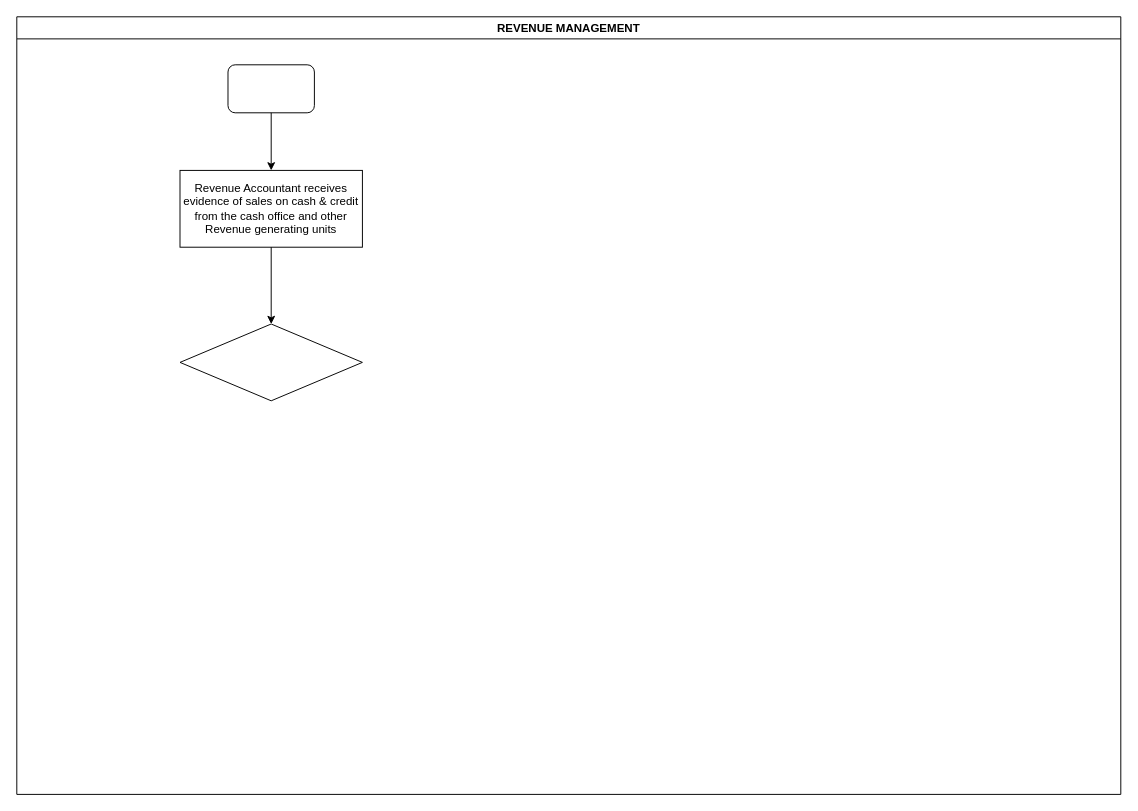
This 1138x811 diagram has some shape labels left out. Here are the shapes that lost their labels. From the top down, the centre of each, then its label:
At pixel 270 88: "Start".
At pixel 270 362: "Money banked in revenue account?".
